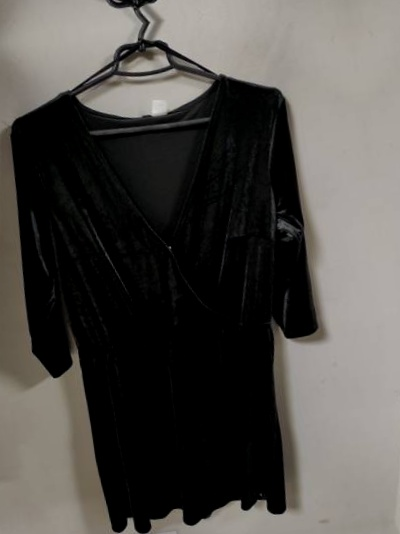Dress: (0, 43, 394, 532), (374, 0, 400, 475), (0, 0, 319, 3)
